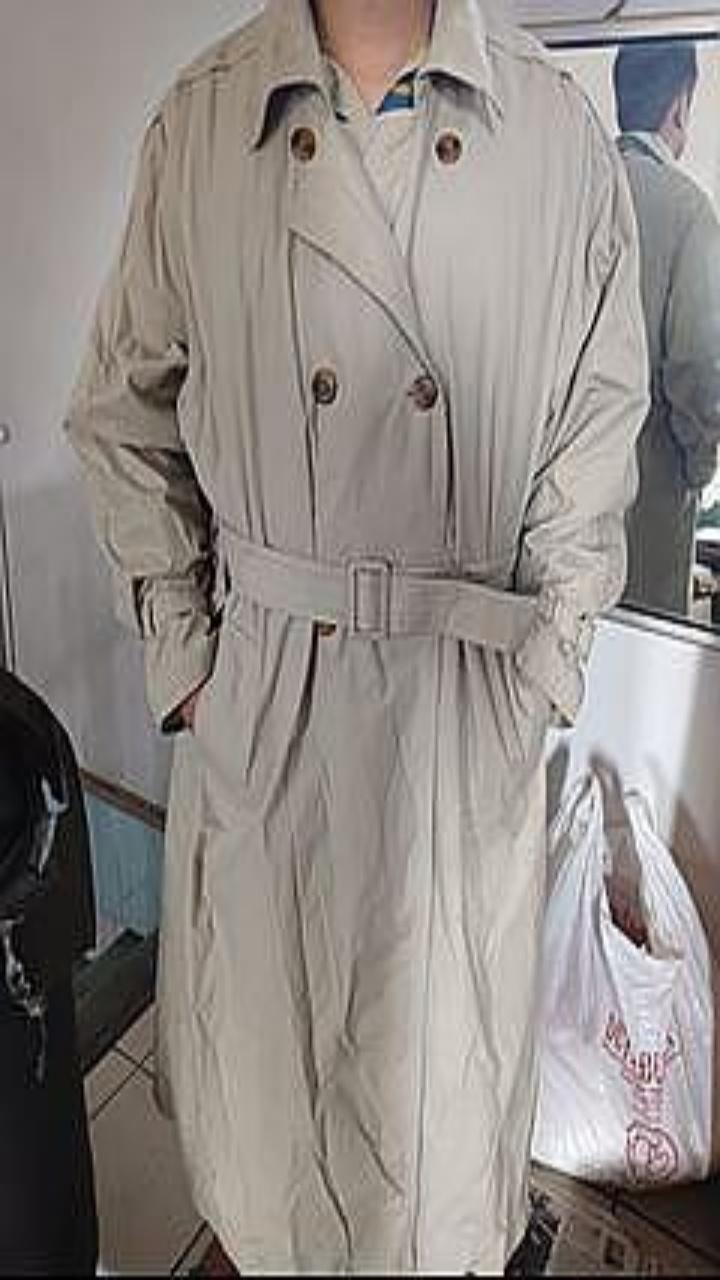Coat: (619, 135, 719, 614), (0, 667, 95, 994)
